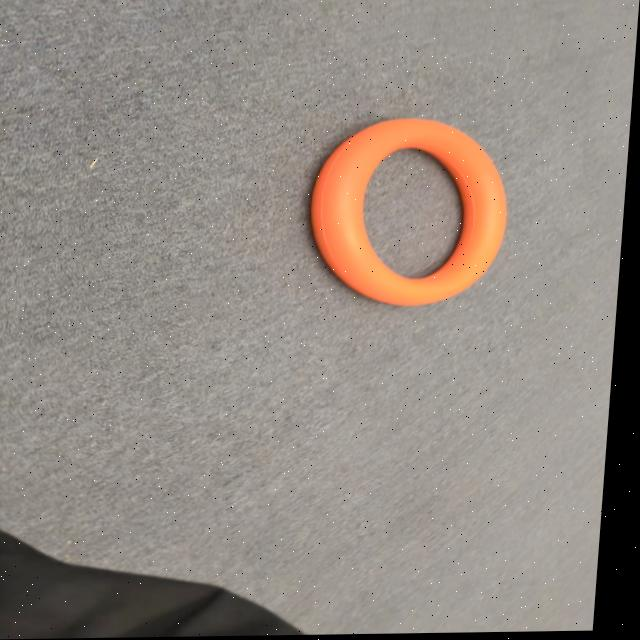note: (302, 123, 511, 306)
